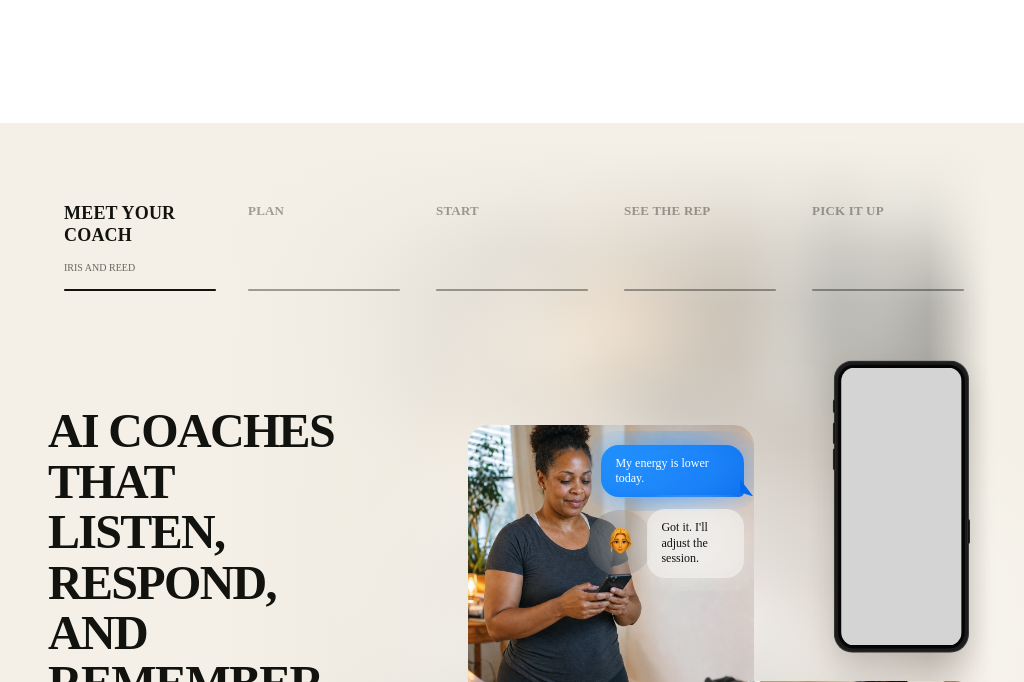
Test: PlanToLiveGuidance › keeps the vertical menu, capture, and content synchronized
Click the button named "see the rep coach the movement": (700, 241) [612,192,788,291]
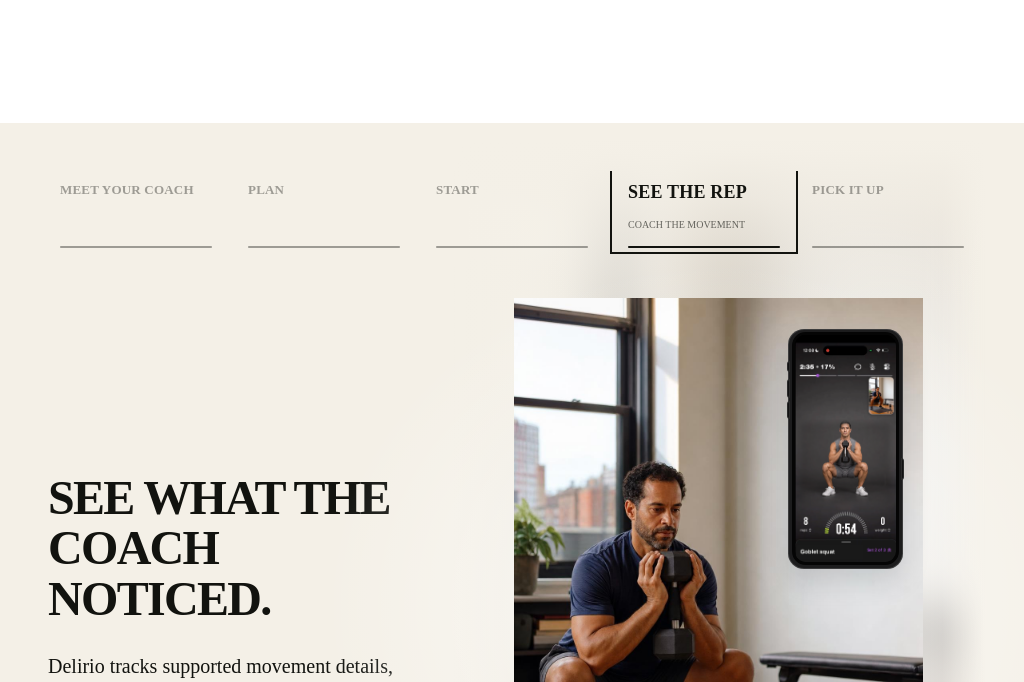
Expected: the heading "SEE WHAT THE COACH NOTICED." is shown, [48,473,421,624]
Expected: the picture named "see the rep: live reps + rest app screen" is shown, [795,335,896,562]
